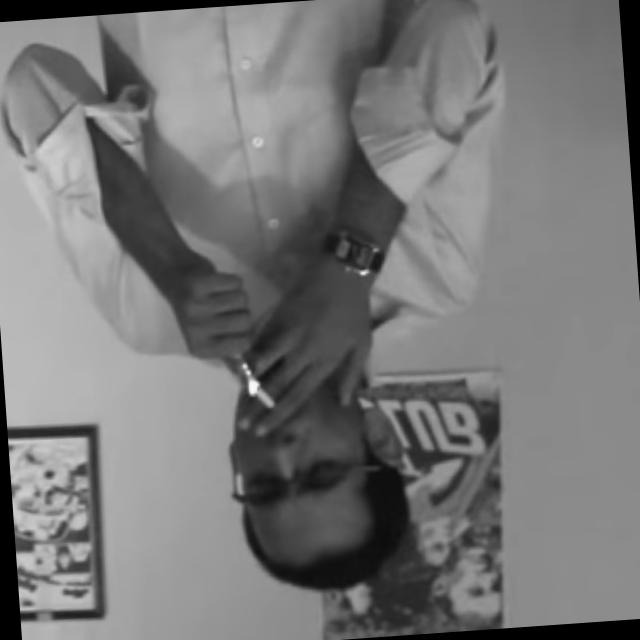cigarette: (244, 376, 280, 416)
